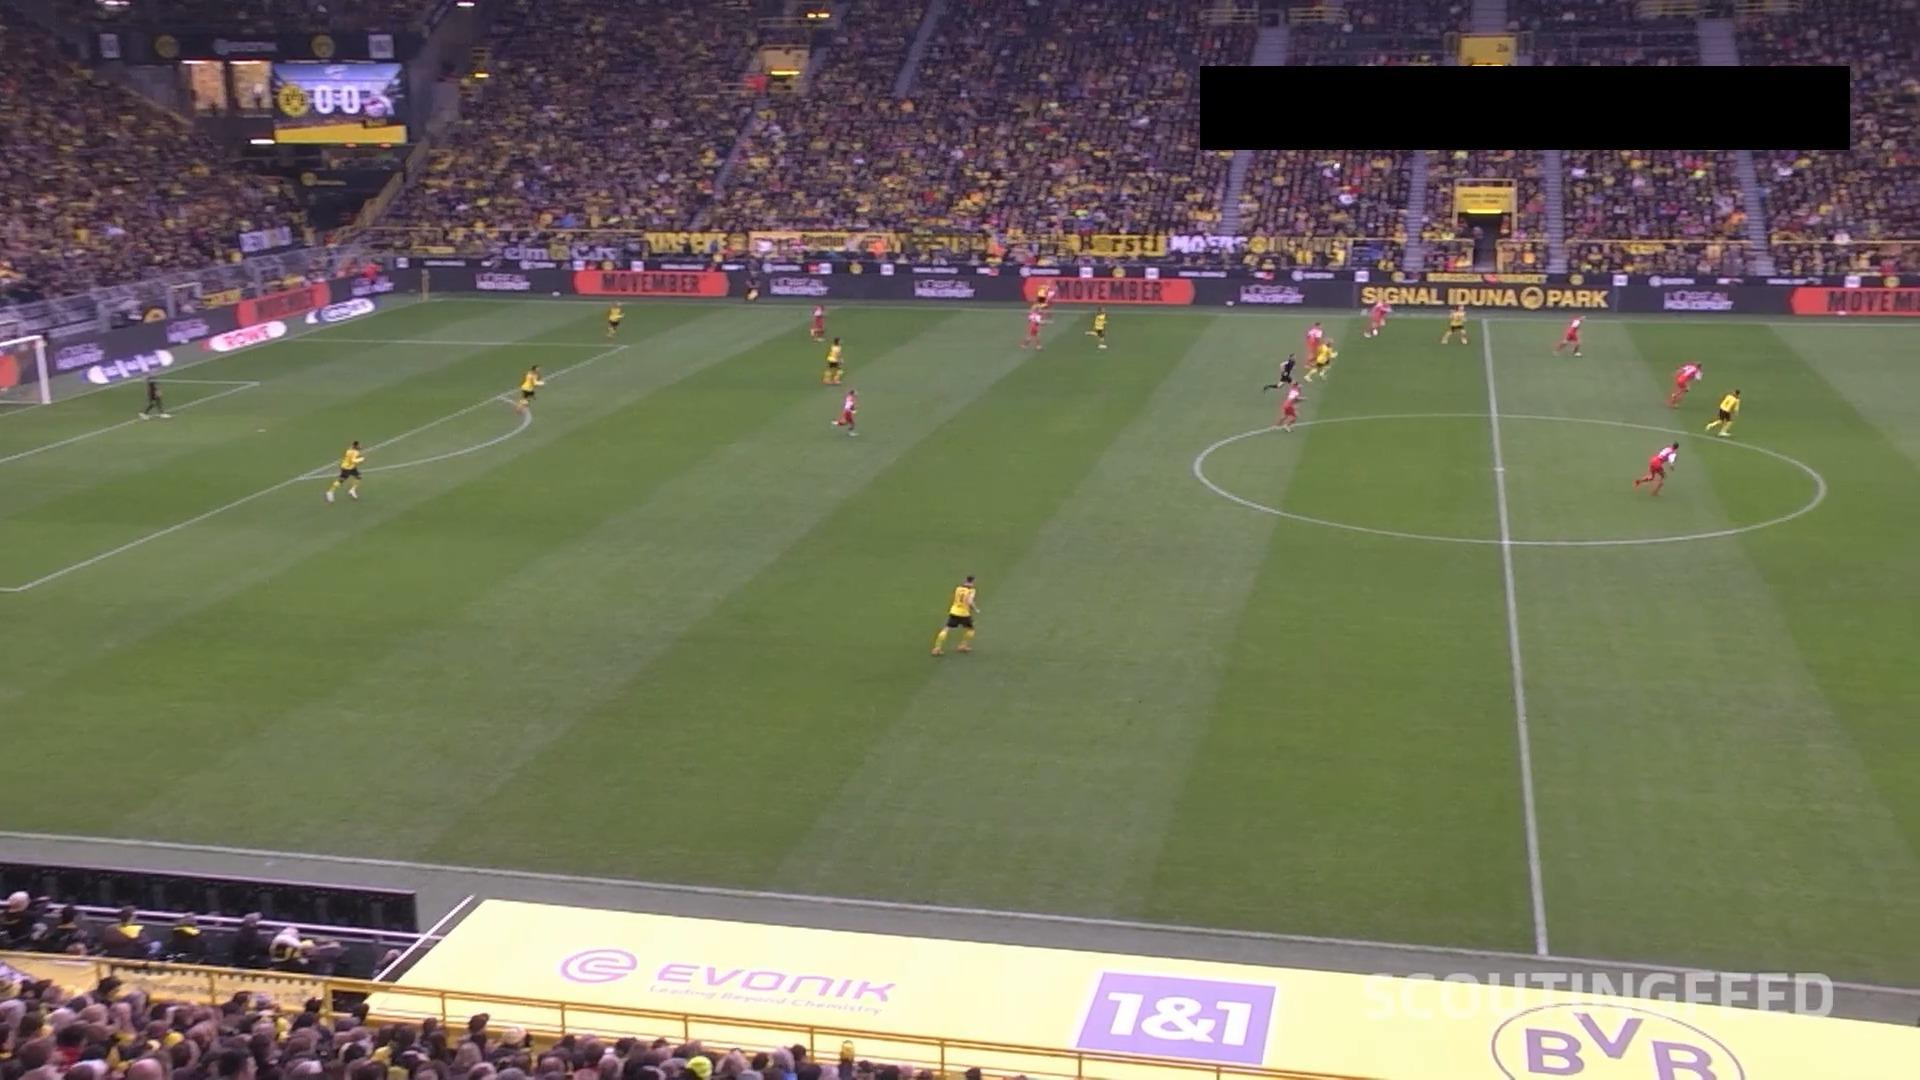player: (929, 573, 980, 656), (1632, 440, 1679, 496), (324, 439, 365, 502), (513, 362, 545, 420), (1704, 387, 1741, 436), (1667, 360, 1703, 407), (1302, 336, 1338, 381), (137, 374, 171, 420), (1277, 376, 1305, 431), (831, 387, 860, 437), (1552, 315, 1584, 356), (1439, 302, 1469, 345), (1019, 303, 1046, 350), (821, 335, 845, 384), (1362, 296, 1390, 337), (1303, 321, 1324, 367), (1088, 305, 1109, 350), (1033, 282, 1055, 320), (809, 302, 827, 341), (1377, 299, 1395, 337), (605, 302, 624, 337)
referee: (1261, 351, 1297, 390), (743, 275, 760, 303)
